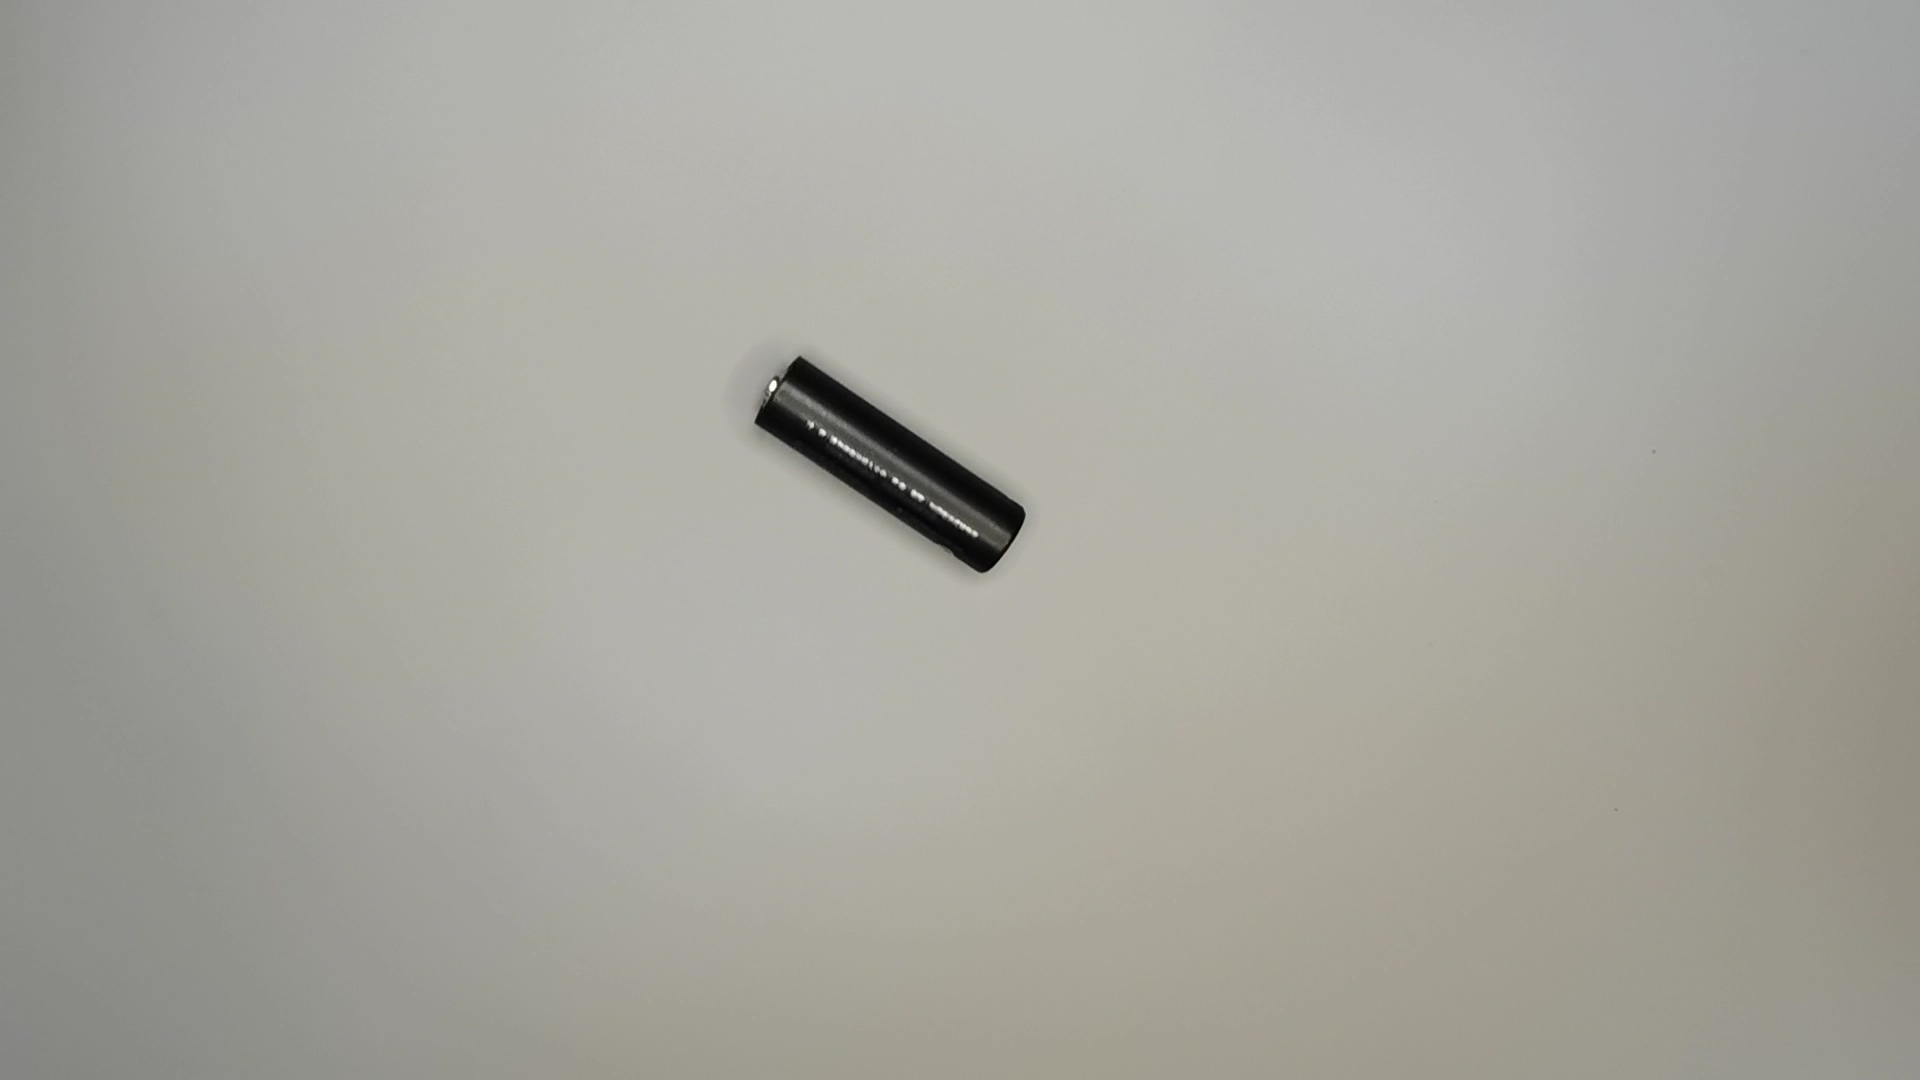battery: (742, 349, 1033, 579)
